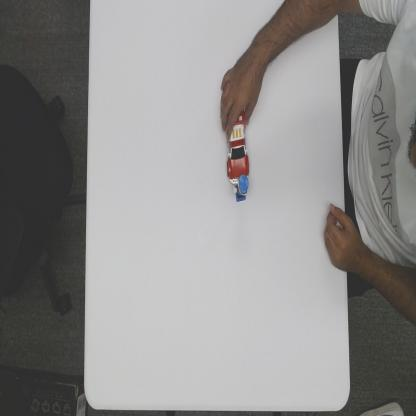Arm: (256, 1, 337, 59)
Firetruck: (226, 110, 250, 187)
Hand: (219, 47, 268, 136), (324, 199, 362, 284)
